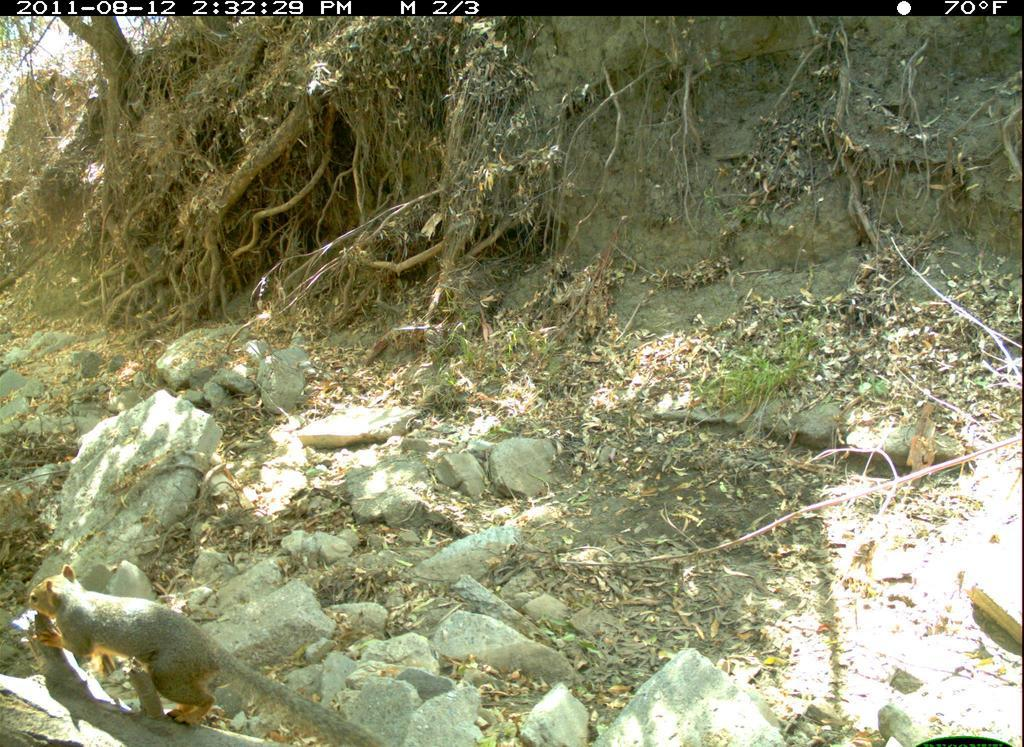squirrel: (20, 561, 391, 747)
